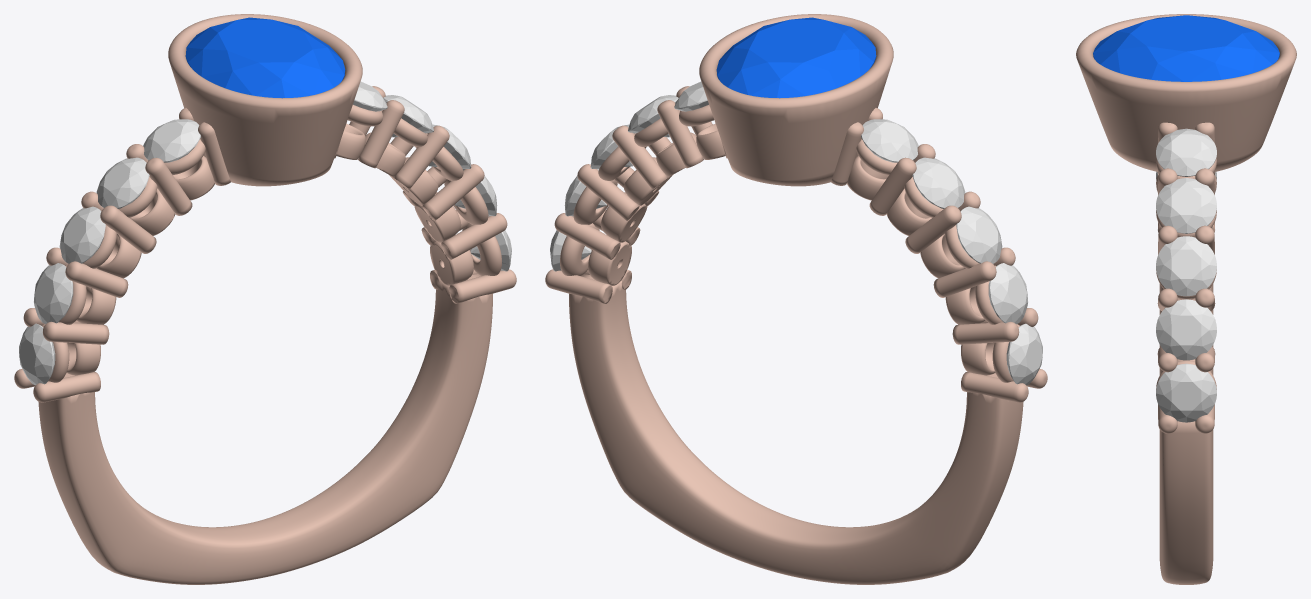
Rendered from bluesapphire-oval-rosegold-bezelset-europeanshank-11stone.glb.
3 views of the same model, side by side, from view 1: azimuth 30°, elevation 25°; view 2: azimuth 150°, elevation 25°; view 3: azimuth 270°, elevation 25° (orthographic). The views are drawn at different scales.
Parts seen in each view (by area): view 1: metal, stone.002, side.022, side.023, side.021, side.024, side.020, side.028, side.029; view 2: metal, stone.002, side.022, side.023, side.021, side.024, side.020, side.028, side.029; view 3: metal, stone.002, side.026, side.027, side.025, side.028, side.029.
Part boxes in pixels (x1,y1,x2,y2): metal: (14,14,516,584); stone.002: (185,17,345,98); side.022: (59,206,105,263); side.023: (96,157,149,208); side.021: (34,263,73,324); side.024: (143,119,200,162); side.020: (19,323,55,385); side.028: (383,95,433,137); side.029: (348,81,387,120); metal: (545,14,1047,584); stone.002: (716,17,876,98); side.022: (956,206,1002,263); side.023: (912,157,965,208); side.021: (988,263,1027,324); side.024: (861,119,918,162); side.020: (1006,323,1042,385); side.028: (628,95,678,137); side.029: (674,81,713,120); metal: (1076,14,1296,584); stone.002: (1093,15,1279,81); side.026: (1156,299,1216,360); side.027: (1156,236,1216,296); side.025: (1156,363,1216,422); side.028: (1156,178,1216,233); side.029: (1156,128,1216,176).
Size of the model in its own units: 22.05 by 23.21 by 9.04.
